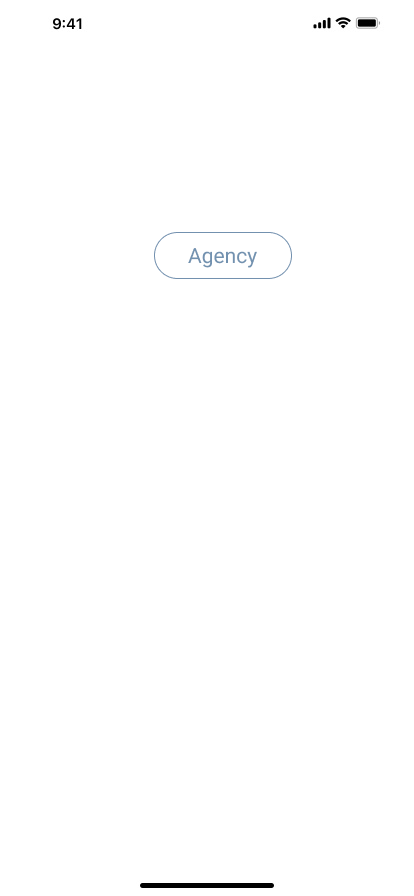Buttons: (154, 232, 300, 279)
Home Indicator: (0, 862, 414, 896)
Status Bar: (0, 0, 414, 44)
